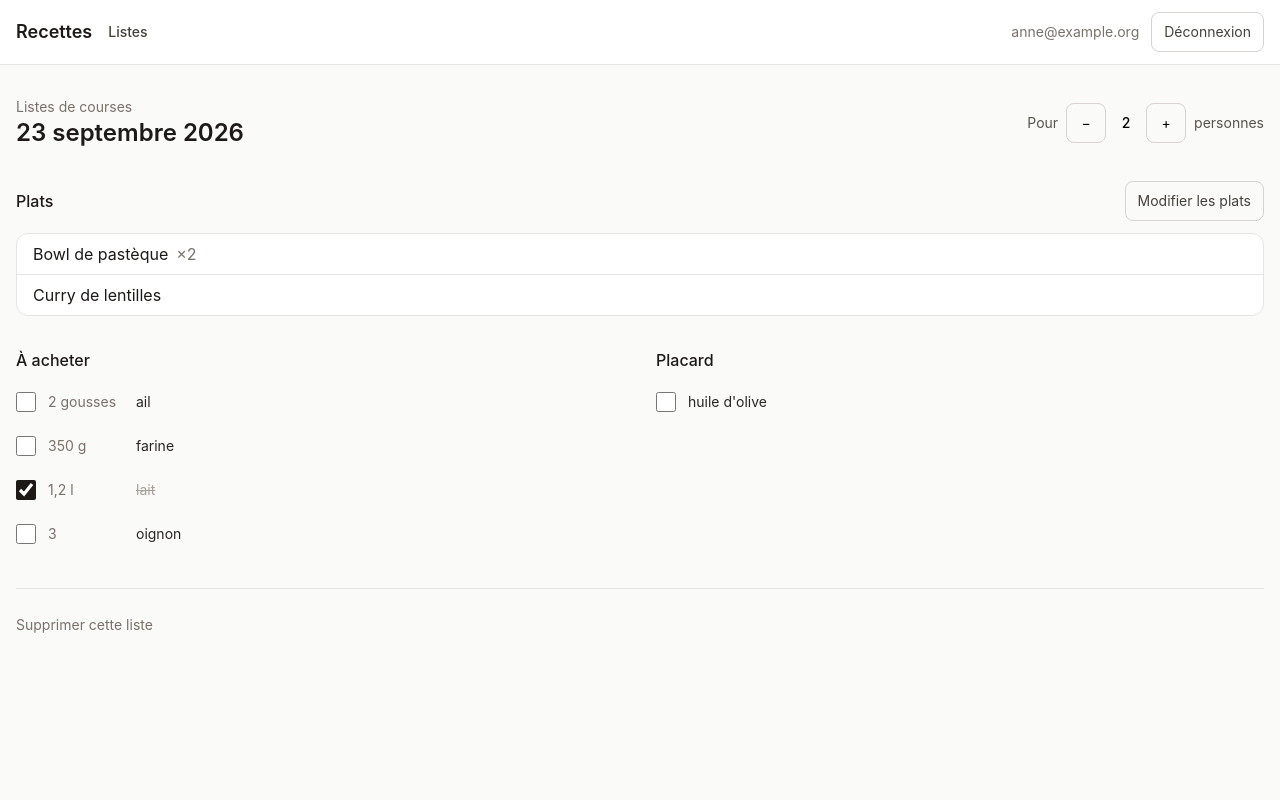
Test: listes de courses › change le nombre de personnes
The width and height of the screenshot is (1280, 800).
Check: the heading "23 septembre 2026" is shown, box [16,117,244,149]
Click the button named "Une personne de plus": (1166, 123) [1146,103,1186,143]
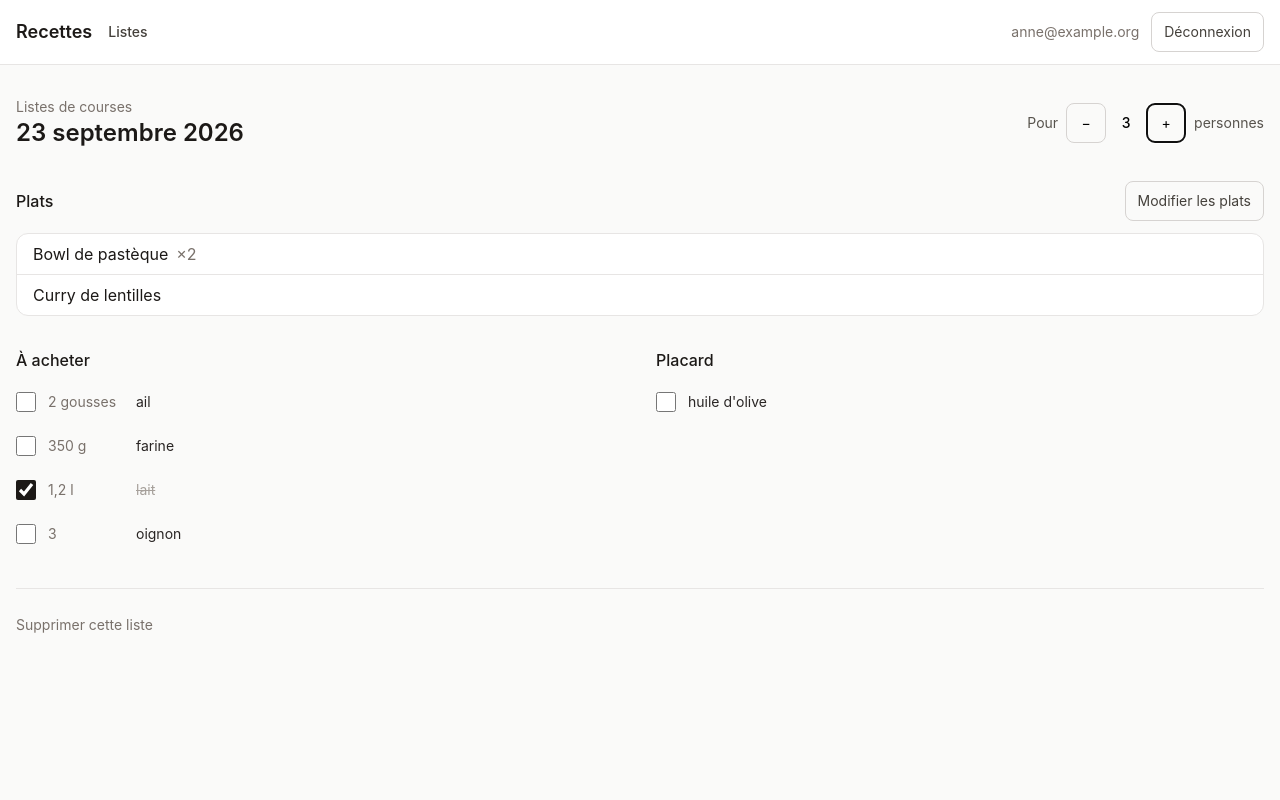
Check: the text named "Nombre de personnes" reads "3", box [1122,114,1130,131]
